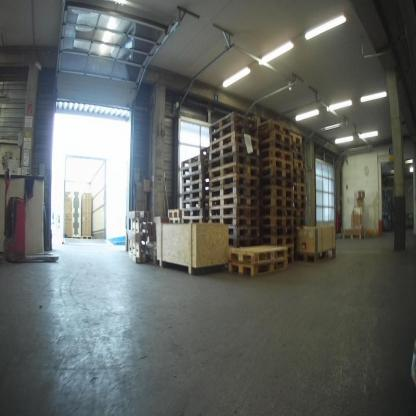pallet: (226, 253, 291, 275), (227, 242, 286, 265), (123, 208, 143, 266), (210, 182, 265, 200), (292, 246, 339, 267), (207, 123, 257, 139), (204, 218, 264, 231), (207, 153, 259, 168), (206, 111, 253, 127), (209, 175, 261, 189), (256, 127, 292, 147), (207, 143, 257, 157), (210, 134, 259, 148), (180, 144, 211, 166), (209, 166, 263, 178), (139, 208, 150, 265), (211, 206, 262, 218), (255, 147, 292, 163), (208, 195, 262, 205), (259, 119, 292, 135), (257, 139, 292, 154), (259, 165, 292, 180), (258, 205, 293, 219), (258, 187, 293, 200), (258, 158, 292, 170), (263, 237, 294, 250), (224, 237, 262, 247), (224, 229, 262, 239), (257, 178, 292, 188), (181, 161, 201, 177), (258, 196, 293, 205), (181, 181, 207, 193), (260, 228, 294, 237), (260, 219, 293, 228), (180, 174, 205, 185), (181, 191, 205, 201), (337, 232, 365, 240), (291, 175, 308, 187), (293, 169, 310, 181), (292, 183, 309, 194), (184, 199, 201, 210), (182, 218, 205, 226), (180, 209, 206, 216), (292, 207, 306, 219), (293, 151, 305, 163), (167, 209, 181, 219), (292, 143, 304, 154), (294, 218, 306, 229), (293, 192, 306, 202), (292, 134, 302, 146), (169, 217, 181, 227), (293, 161, 304, 170), (295, 202, 305, 208)
pallet_truck: (1, 163, 72, 270)
